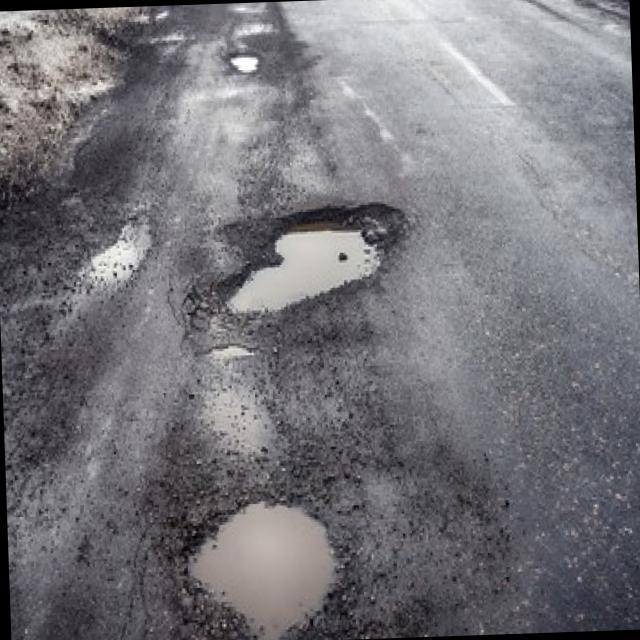pothole: (175, 492, 345, 640), (216, 203, 409, 319), (227, 52, 262, 78)
